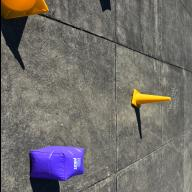cone: (0, 0, 49, 19), (130, 89, 170, 109)
cube: (28, 146, 84, 182)
